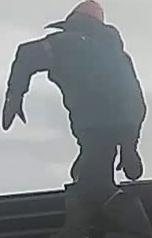gloves: (114, 142, 144, 182), (1, 90, 28, 131)
helmet: (72, 0, 106, 23)
vest: (47, 29, 142, 135)
